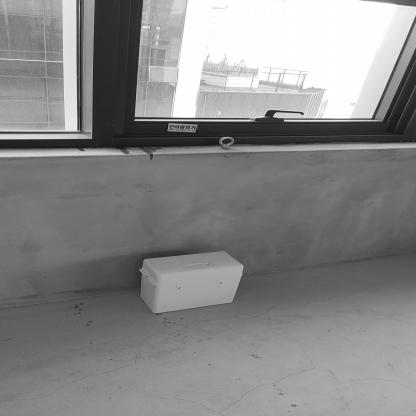DDL: (141, 252, 245, 315)
